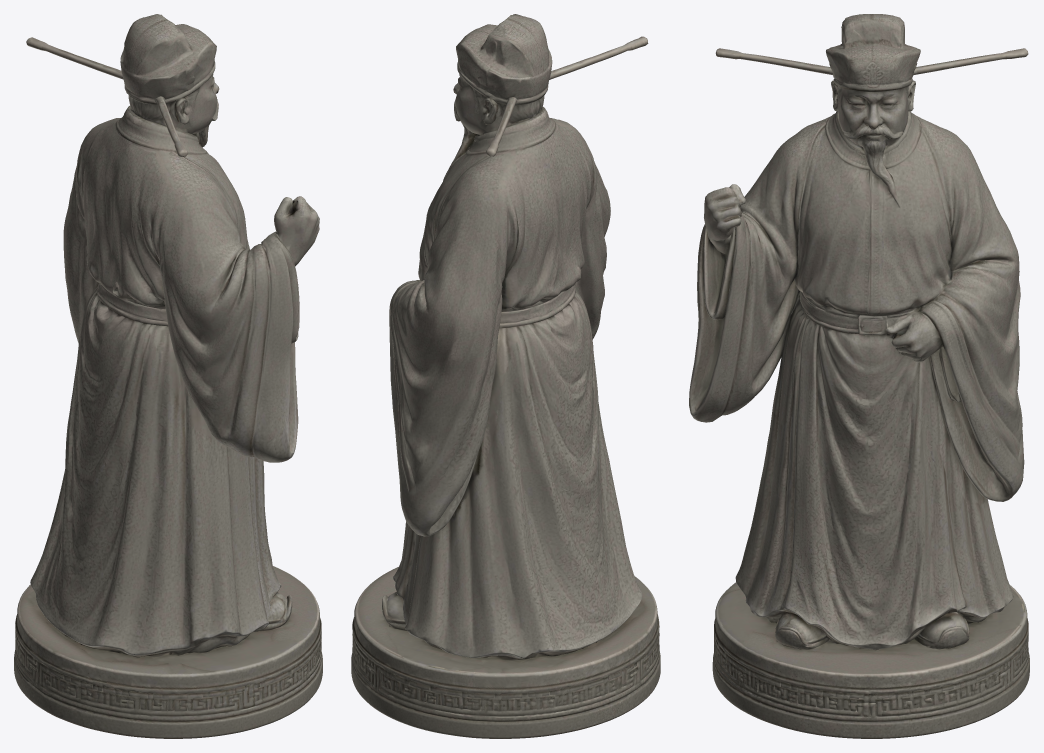
The model's file is ancient_chinese_statue_3d_model_5.fbx.
3 renders of one model, left to right at view 1: azimuth 30°, elevation 25°; view 2: azimuth 150°, elevation 25°; view 3: azimuth 270°, elevation 25°, orthographic.
Parts seen in each view (by area): view 1: tripo_node_9b86cb94; view 2: tripo_node_9b86cb94; view 3: tripo_node_9b86cb94.
Boxes of the visible parts, x1,y1,x2,y2 form: tripo_node_9b86cb94: (14, 14, 322, 738); tripo_node_9b86cb94: (351, 14, 660, 738); tripo_node_9b86cb94: (689, 14, 1029, 738).
Size of the model in its own units: 0.4158 by 0.979 by 0.4603.
